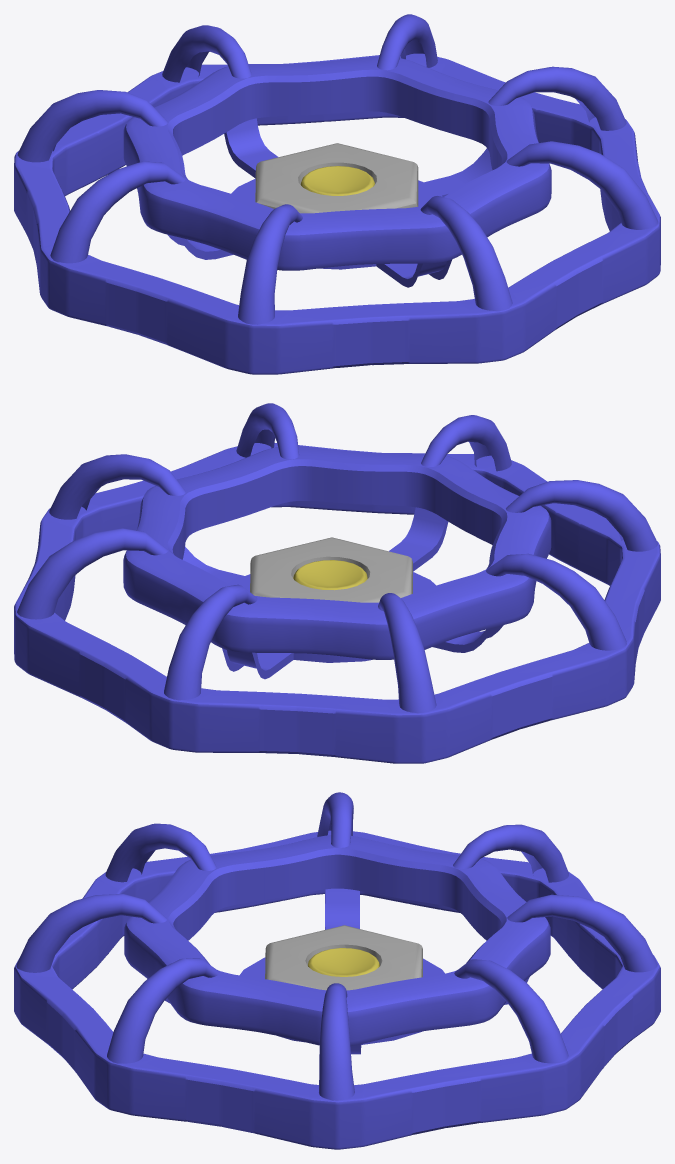
Rendered from Blue_Spigot.fbx.
The picture shows the model from 3 angles, top to bottom: view 1: azimuth 30°, elevation 25°; view 2: azimuth 150°, elevation 25°; view 3: azimuth 270°, elevation 25°; orthographic projection. The views are drawn at different scales.
Visible parts, largest first — view 1: polySurface135; view 2: polySurface135; view 3: polySurface135.
Part boxes in pixels (box(x1,y1,x2,y2)): polySurface135: box(14, 14, 660, 374); polySurface135: box(14, 403, 660, 763); polySurface135: box(14, 792, 660, 1149).
Bounding box in the file's own units: 1.95 × 0.3921 × 1.95.
